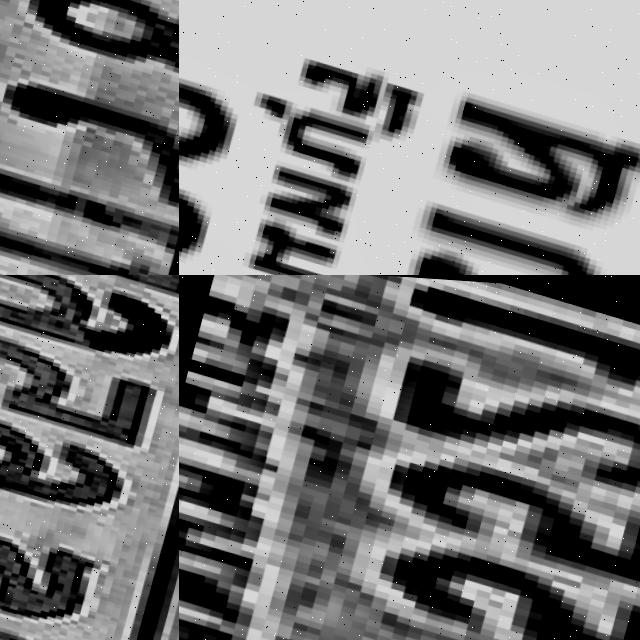license-plate: (179, 275, 640, 640), (179, 0, 640, 275), (0, 275, 179, 640), (0, 0, 179, 275)
